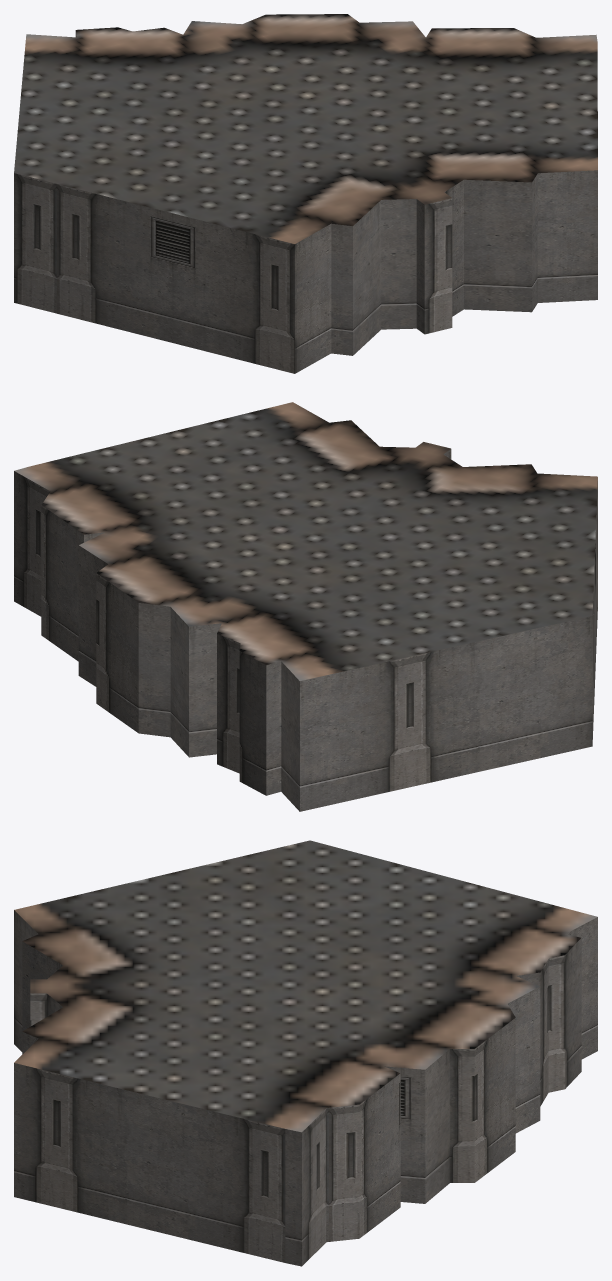
The model's file is building_hard_a_52.glb.
3 renders of one model, top to bottom at view 1: azimuth 30°, elevation 25°; view 2: azimuth 150°, elevation 25°; view 3: azimuth 270°, elevation 25°, orthographic. The views are drawn at different scales.
Visible parts, largest first — view 1: buildings/saxarba/building_hard/building_hard_a_52; view 2: buildings/saxarba/building_hard/building_hard_a_52; view 3: buildings/saxarba/building_hard/building_hard_a_52.
Part boxes in pixels (<box>): buildings/saxarba/building_hard/building_hard_a_52: <box>14,14,597,373</box>; buildings/saxarba/building_hard/building_hard_a_52: <box>14,402,597,811</box>; buildings/saxarba/building_hard/building_hard_a_52: <box>14,840,597,1266</box>.
Size of the model in its own units: 84 by 18 by 71.
